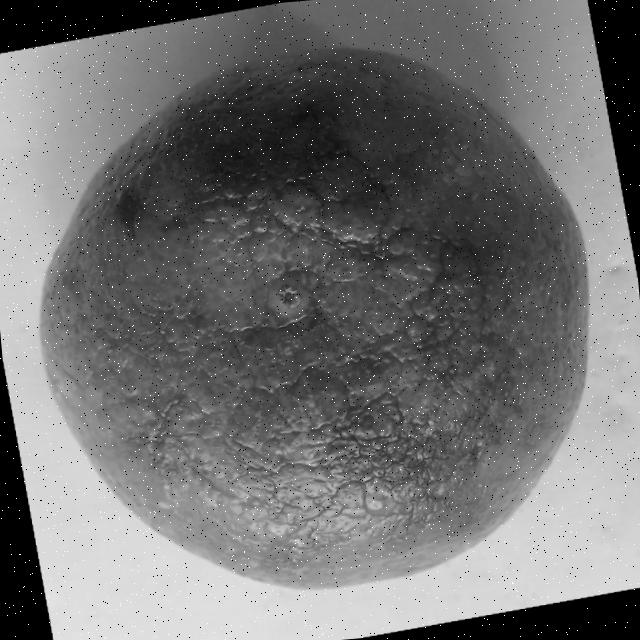overripe: (4, 17, 619, 622)
